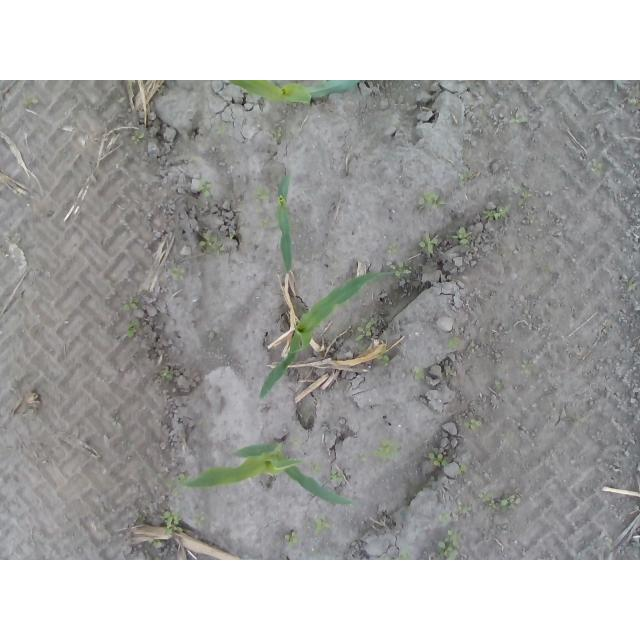Maize: (261, 269, 399, 401), (175, 436, 354, 508), (224, 80, 362, 108), (277, 174, 295, 273)
Weeds: (480, 491, 521, 514), (437, 528, 460, 560), (200, 231, 225, 256), (374, 438, 401, 459), (419, 192, 449, 210), (118, 294, 144, 314), (452, 224, 472, 247), (161, 511, 181, 534), (481, 207, 511, 222), (355, 319, 374, 341), (427, 448, 450, 466), (128, 318, 145, 342), (311, 517, 337, 532), (198, 176, 215, 198), (417, 235, 435, 254), (395, 261, 413, 279), (16, 95, 38, 109), (170, 264, 187, 281), (158, 370, 177, 383), (255, 185, 270, 201), (464, 417, 481, 431), (270, 127, 283, 145), (517, 190, 528, 211), (447, 334, 461, 350), (329, 467, 344, 481), (456, 463, 471, 477), (194, 514, 207, 530), (590, 160, 603, 176), (285, 531, 299, 545), (131, 132, 146, 145), (210, 125, 226, 137), (457, 172, 473, 184), (509, 115, 529, 124), (522, 360, 538, 371), (414, 367, 426, 381), (439, 511, 450, 524), (387, 245, 400, 256), (626, 96, 639, 107), (400, 546, 410, 560), (311, 466, 322, 477), (379, 357, 391, 367), (174, 473, 186, 483), (460, 504, 473, 513), (626, 279, 636, 290), (111, 415, 120, 426), (154, 540, 162, 548)
